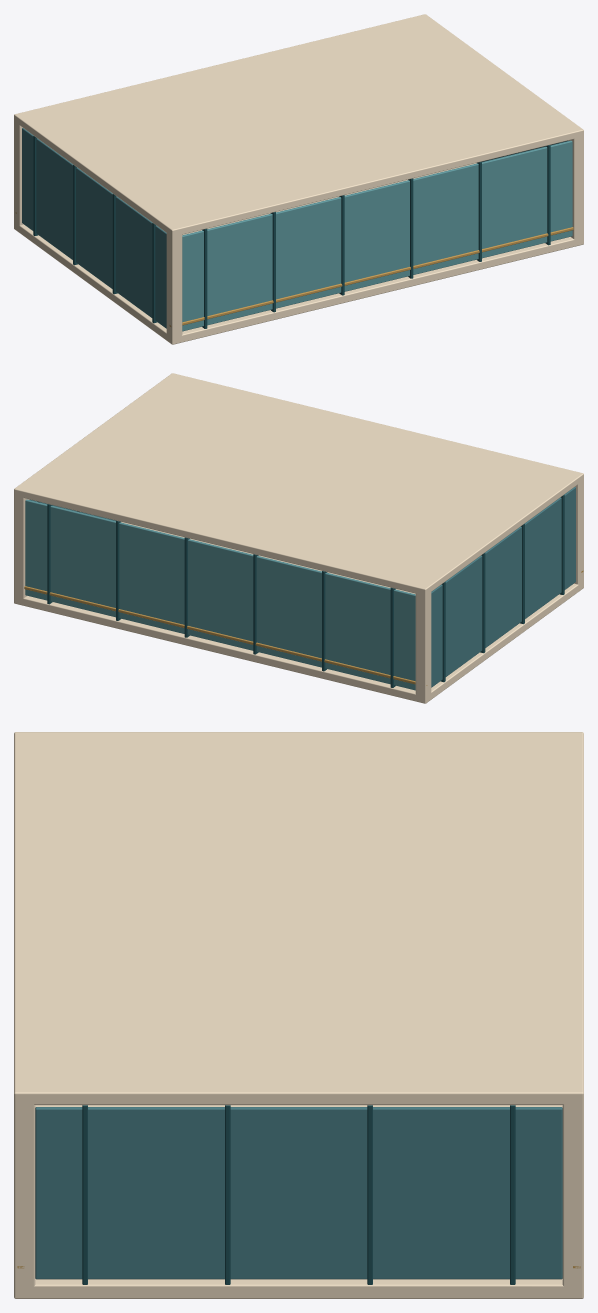
The model's file is facade.glb.
3 views of the same model, one above another, from view 1: azimuth 30°, elevation 25°; view 2: azimuth 150°, elevation 25°; view 3: azimuth 270°, elevation 25° (orthographic). The views are drawn at different scales.
Parts seen in each view (by area): view 1: cornice, glazing, side-glazing, slab, corner (×3), accent; view 2: cornice, glazing, side-glazing, slab, corner (×3), accent; view 3: cornice, side-glazing, slab, corner (×2), side-mullion (×4).
Part boxes in pixels (x1,y1,x2,y2): cornice: (14,14,583,236); glazing: (182,140,572,331); side-glazing: (22,128,166,328); slab: (14,163,583,344); corner (×3): (14,114,583,344); accent: (169,227,573,326); cornice: (14,373,583,595); glazing: (25,499,415,690); side-glazing: (431,487,575,687); slab: (14,522,583,703); corner (×3): (14,471,583,703); accent: (24,586,427,685); cornice: (14,732,583,1105); side-glazing: (35,1107,562,1279); slab: (14,1105,583,1298); corner (×2): (14,1084,583,1298); side-mullion (×4): (82,1105,515,1284).
Bounding box in the file's own units: 12 × 3.2 × 8.
